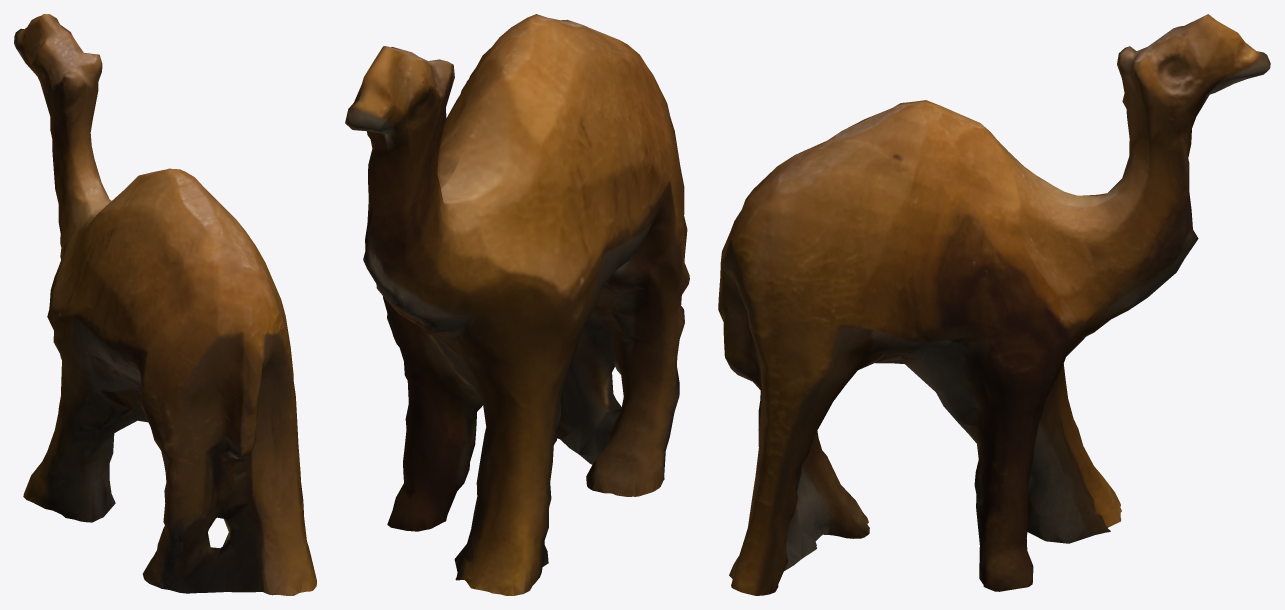
The model's file is Camel_3DModel_LowPoly.glb.
3 views of the same model, side by side, from view 1: azimuth 30°, elevation 25°; view 2: azimuth 150°, elevation 25°; view 3: azimuth 270°, elevation 25° (orthographic). The views are drawn at different scales.
Parts seen in each view (by area): view 1: 3DModel_LowPoly; view 2: 3DModel_LowPoly; view 3: 3DModel_LowPoly.
Boxes of the visible parts, box(x1,y1,x2,y2) form: 3DModel_LowPoly: box(14, 14, 316, 595); 3DModel_LowPoly: box(345, 14, 689, 595); 3DModel_LowPoly: box(718, 14, 1270, 595).
Bounding box in the file's own units: 1.28 × 3.53 × 3.31.
1 material, 1 textured.
